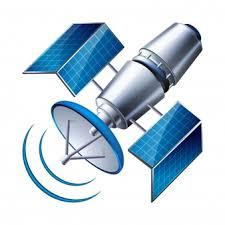antenna: (49, 98, 125, 175)
body: (89, 22, 204, 138)
solar: (127, 99, 204, 203), (22, 21, 125, 98)
